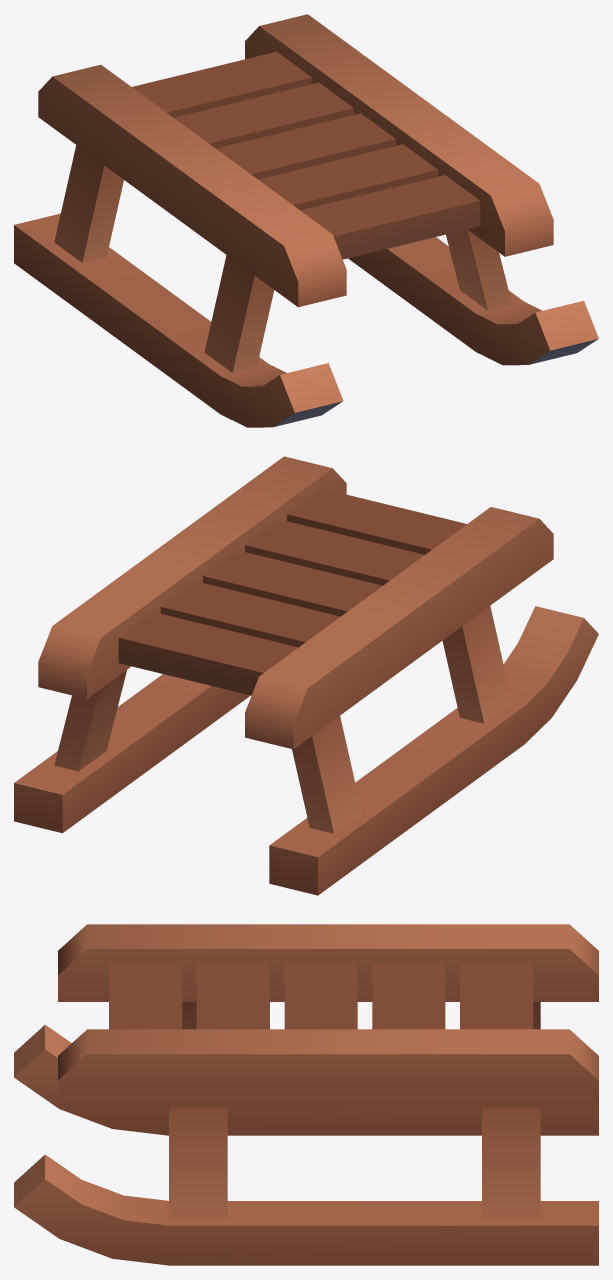
File: sled-long.glb
3 views of the same model, one above another, from view 1: azimuth 30°, elevation 25°; view 2: azimuth 150°, elevation 25°; view 3: azimuth 270°, elevation 25° (orthographic). The views are drawn at different scales.
Visible parts, largest first — view 1: sled-long; view 2: sled-long; view 3: sled-long.
Part boxes in pixels (<box>): sled-long: <box>14,14,598,427</box>; sled-long: <box>14,456,598,895</box>; sled-long: <box>14,924,598,1265</box>.
Bounding box in the file's own units: 0.625 × 0.3753 × 1.
